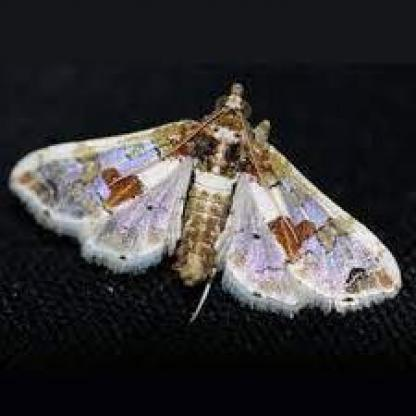leucinodes: (11, 86, 401, 318)
